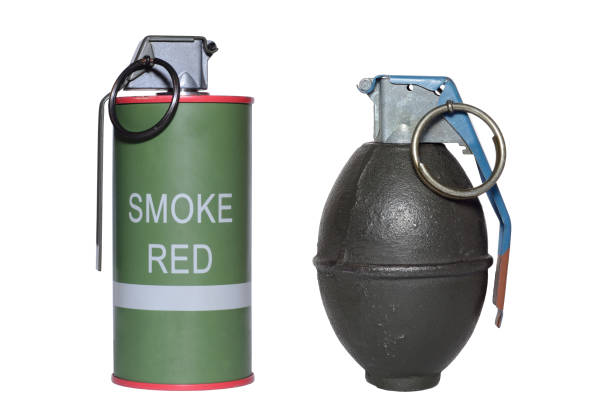e1: (314, 75, 514, 390), (92, 32, 257, 392)
